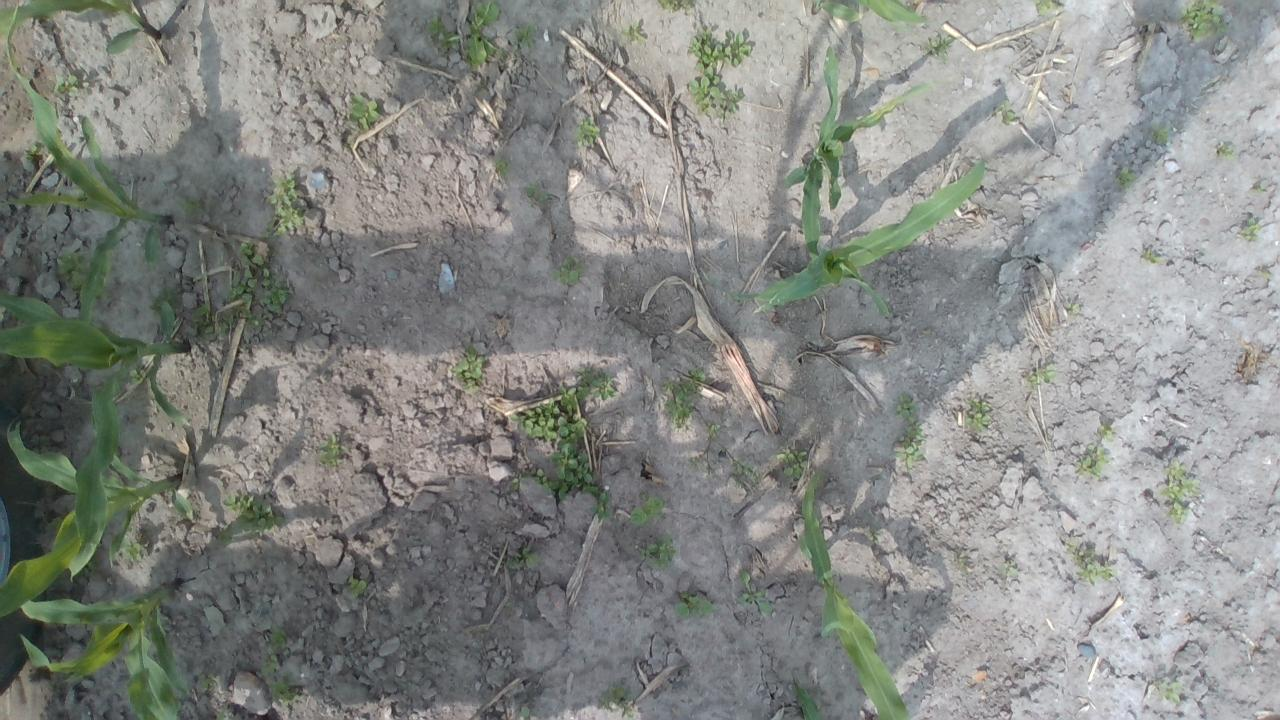Maize: (0, 290, 189, 586), (0, 12, 172, 326), (754, 159, 984, 320), (0, 419, 194, 578), (783, 47, 925, 263), (801, 473, 908, 720), (17, 583, 190, 720), (0, 0, 161, 56), (812, 0, 926, 29), (789, 676, 822, 720)
Weeds: (225, 242, 288, 312), (550, 412, 600, 500), (216, 494, 288, 544), (688, 63, 744, 122), (268, 170, 306, 238), (1063, 539, 1116, 586), (463, 1, 502, 64), (688, 30, 752, 67), (508, 398, 558, 442), (1156, 458, 1202, 502), (662, 378, 699, 432), (1182, 0, 1228, 42), (894, 417, 928, 472), (190, 304, 236, 342), (736, 570, 771, 616), (576, 366, 617, 402), (638, 534, 677, 571), (452, 346, 484, 391), (55, 250, 91, 290), (673, 590, 720, 620), (627, 492, 668, 526), (348, 93, 384, 131), (597, 684, 634, 720), (775, 444, 810, 481), (424, 15, 460, 48), (1076, 446, 1110, 480), (267, 672, 298, 704), (966, 398, 992, 433), (550, 255, 582, 283), (115, 532, 144, 562), (317, 432, 343, 465), (508, 548, 541, 571), (148, 288, 175, 316), (574, 117, 600, 146), (731, 457, 760, 482), (1025, 363, 1056, 386), (592, 491, 614, 522), (52, 74, 80, 98), (557, 384, 578, 416), (927, 35, 956, 58), (512, 24, 538, 49), (174, 196, 203, 218), (1158, 678, 1182, 704), (268, 624, 288, 654), (1240, 215, 1262, 242), (994, 100, 1018, 124), (258, 654, 280, 678), (893, 394, 916, 416), (1116, 166, 1137, 190), (623, 19, 644, 41), (1169, 502, 1189, 524), (349, 578, 369, 600), (657, 0, 693, 12), (1034, 0, 1058, 17), (526, 184, 548, 202), (1140, 248, 1162, 266), (244, 312, 266, 330), (1216, 142, 1234, 162), (1097, 422, 1115, 440), (1154, 126, 1170, 146), (1001, 561, 1018, 578), (494, 158, 510, 176), (867, 528, 883, 546), (705, 422, 721, 439), (732, 291, 754, 303), (22, 144, 38, 160), (687, 369, 705, 383), (1065, 301, 1081, 314), (518, 706, 534, 718), (68, 186, 85, 197), (495, 48, 508, 61), (216, 711, 230, 720), (1260, 269, 1272, 279), (0, 305, 6, 321), (1256, 183, 1265, 193), (688, 458, 699, 466)
